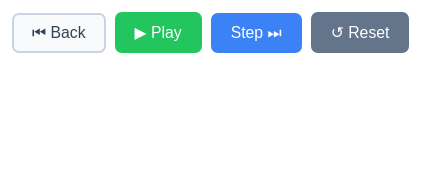
StepController › switches back to Play when Pause is clicked
Click the button "▶ Play" at (158, 32), box [115,12,202,53]
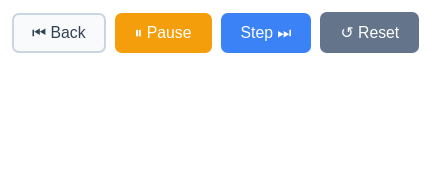
Click the button "⏸ Pause" at (163, 32), box [115,12,212,52]
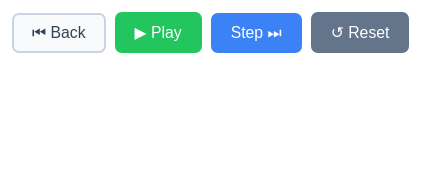
Check: the button "▶ Play" is shown, box [115,12,202,53]
Check: the button "Pause" is gone
